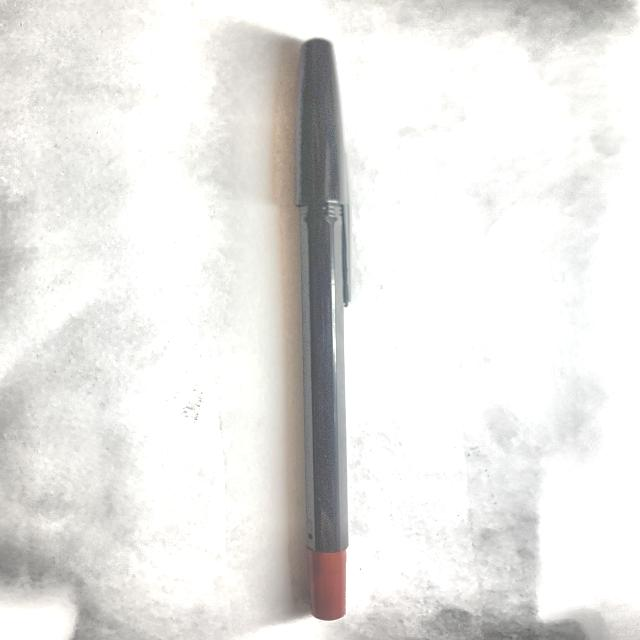Pulpen: (269, 26, 382, 631)
